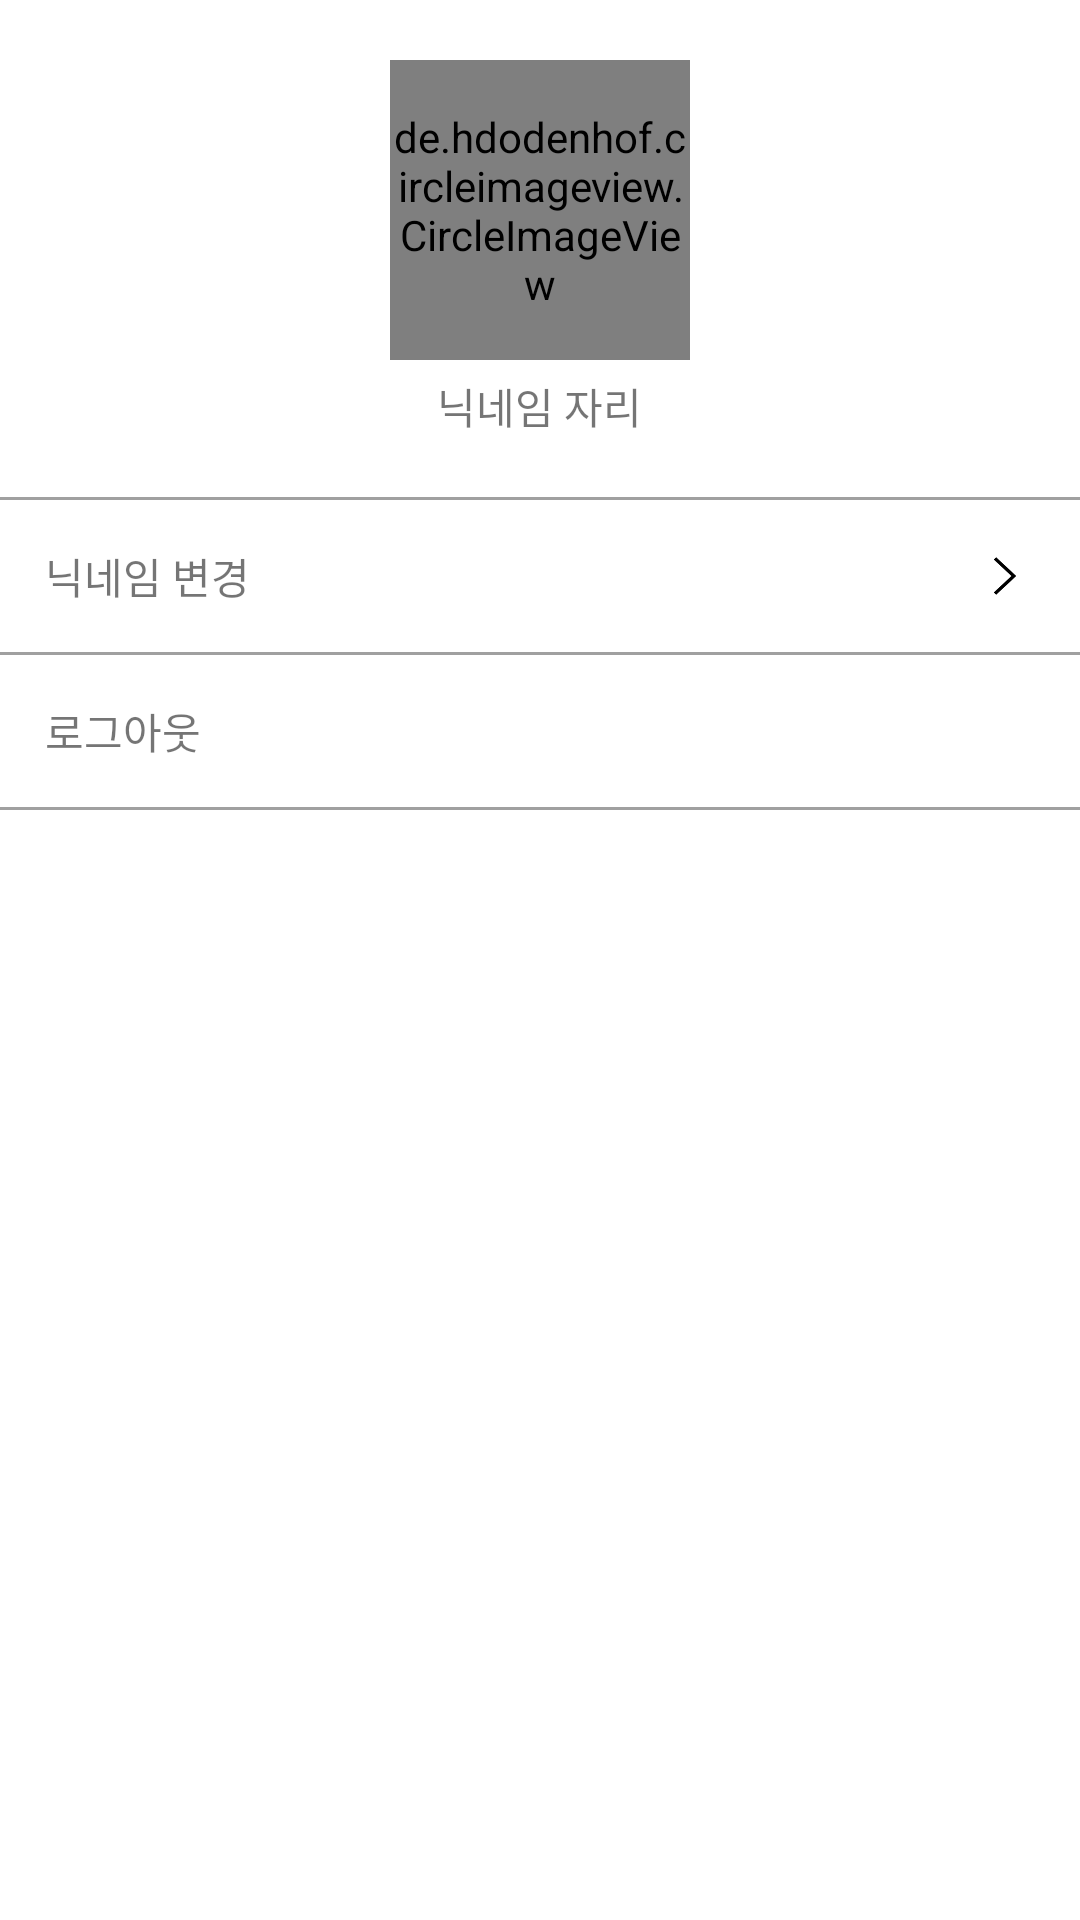

Icons on this 1080px x 1920px Android screen, each with the point to tap as point (x, y):
right arrow: point (1005, 576)
